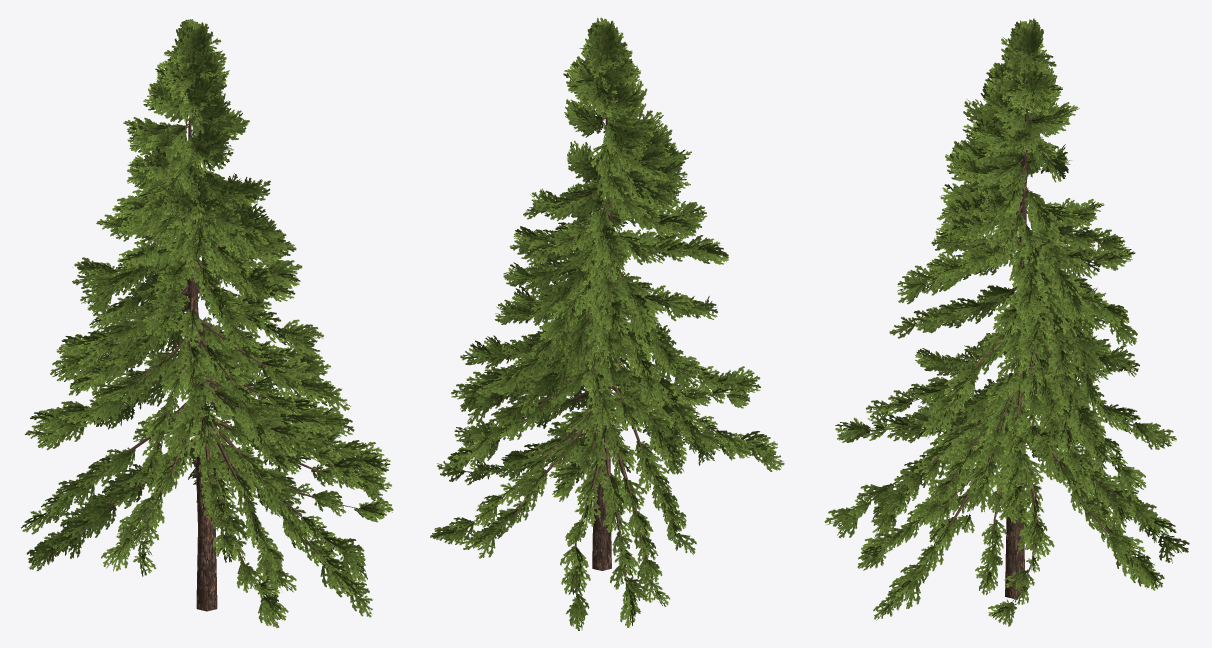
Rendered from strom_smrk.glb.
3 renders of one model, left to right at view 1: azimuth 30°, elevation 25°; view 2: azimuth 150°, elevation 25°; view 3: azimuth 270°, elevation 25°, orthographic. The views are drawn at different scales.
Parts seen in each view (by area): view 1: leaves, bark; view 2: leaves, bark; view 3: leaves, bark.
Boxes of the visible parts, <box> form: leaves: <box>21,19,393,628</box>; bark: <box>46,116,363,611</box>; leaves: <box>430,17,784,630</box>; bark: <box>457,117,753,599</box>; leaves: <box>824,18,1189,626</box>; bark: <box>866,104,1166,606</box>.
Size of the model in its own units: 41.12 by 68.61 by 40.9.
2 materials, 2 textured.
